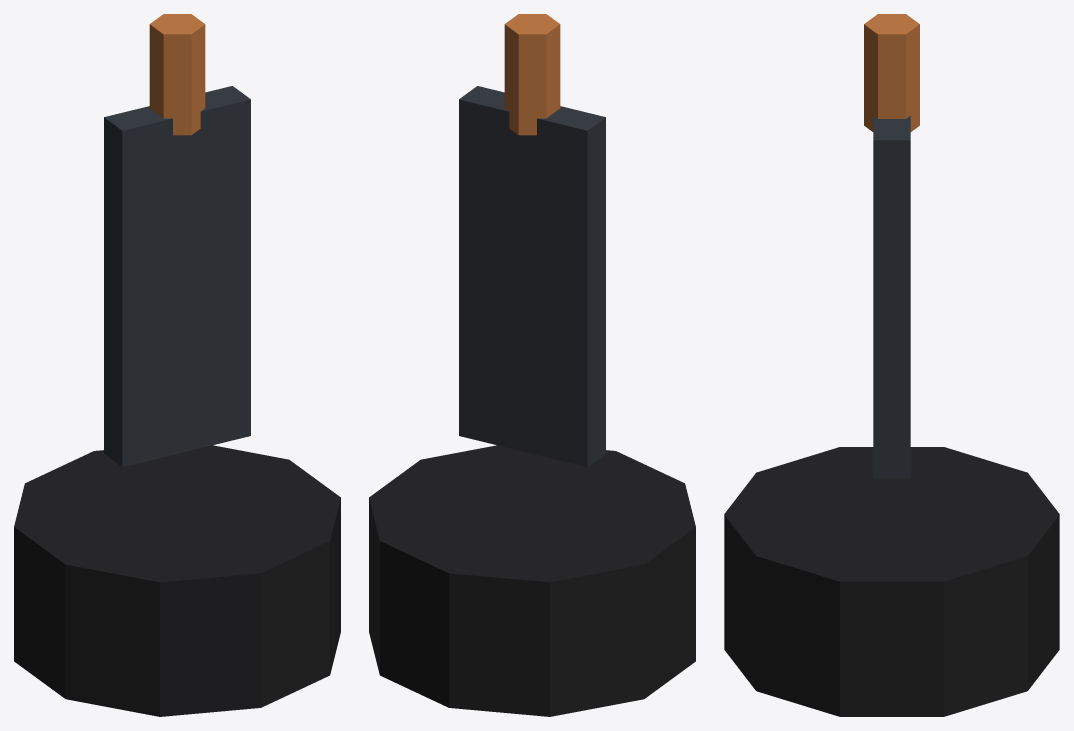
Rendered from prop_lift_vacuum_tube.glb.
3 views of the same model, side by side, from view 1: azimuth 30°, elevation 25°; view 2: azimuth 150°, elevation 25°; view 3: azimuth 270°, elevation 25° (orthographic).
Visible parts, largest first — view 1: prop_lift_vacuum_tube; view 2: prop_lift_vacuum_tube; view 3: prop_lift_vacuum_tube.
Part boxes in pixels (x1,y1,x2,y2): prop_lift_vacuum_tube: (14,14,340,716); prop_lift_vacuum_tube: (369,14,695,716); prop_lift_vacuum_tube: (724,14,1059,716).
Size of the model in its own units: 0.1712 by 0.38 by 0.18.
Materials: 1 (1 with a texture image).
